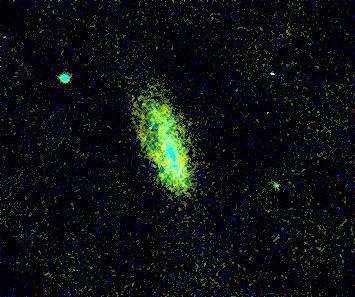star: (143, 159, 173, 189)
